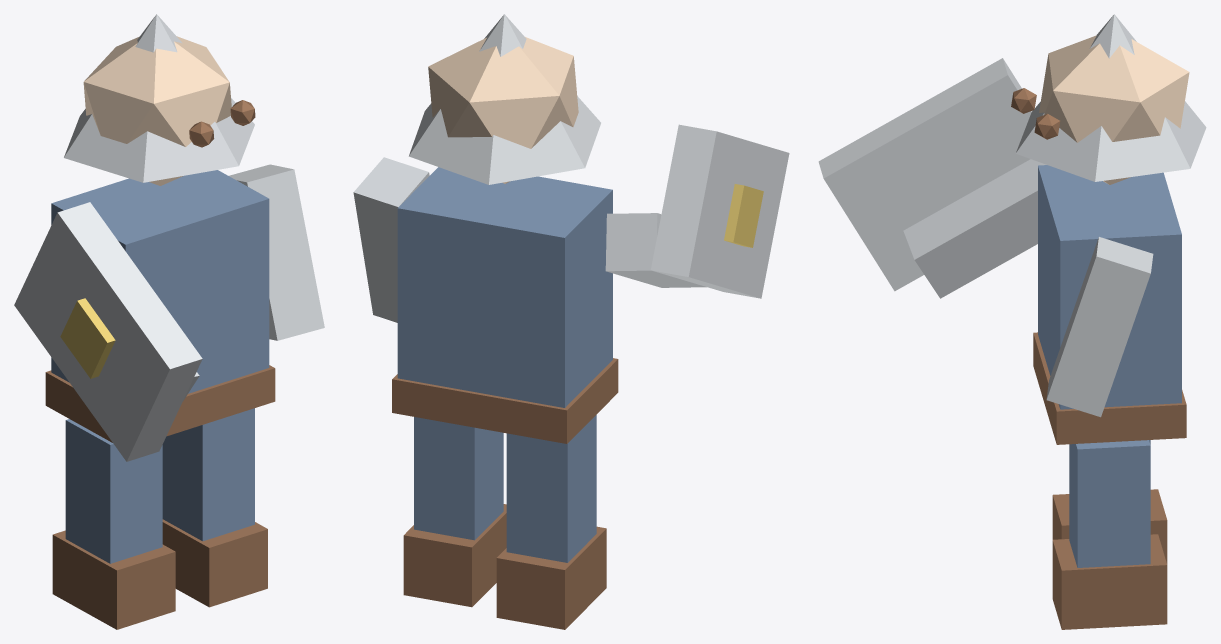
File: npcpose_guard_idle_03.glb
3 views of the same model, side by side, from view 1: azimuth 30°, elevation 25°; view 2: azimuth 150°, elevation 25°; view 3: azimuth 270°, elevation 25° (orthographic).
Parts seen in each view (by area): view 1: npcpose; view 2: npcpose; view 3: npcpose.
Part boxes in pixels (x1,y1,x2,y2): npcpose: [14, 14, 324, 629]; npcpose: [353, 14, 789, 629]; npcpose: [818, 14, 1206, 629].
Size of the model in its own units: 0.8448 by 1.55 by 0.9487.
